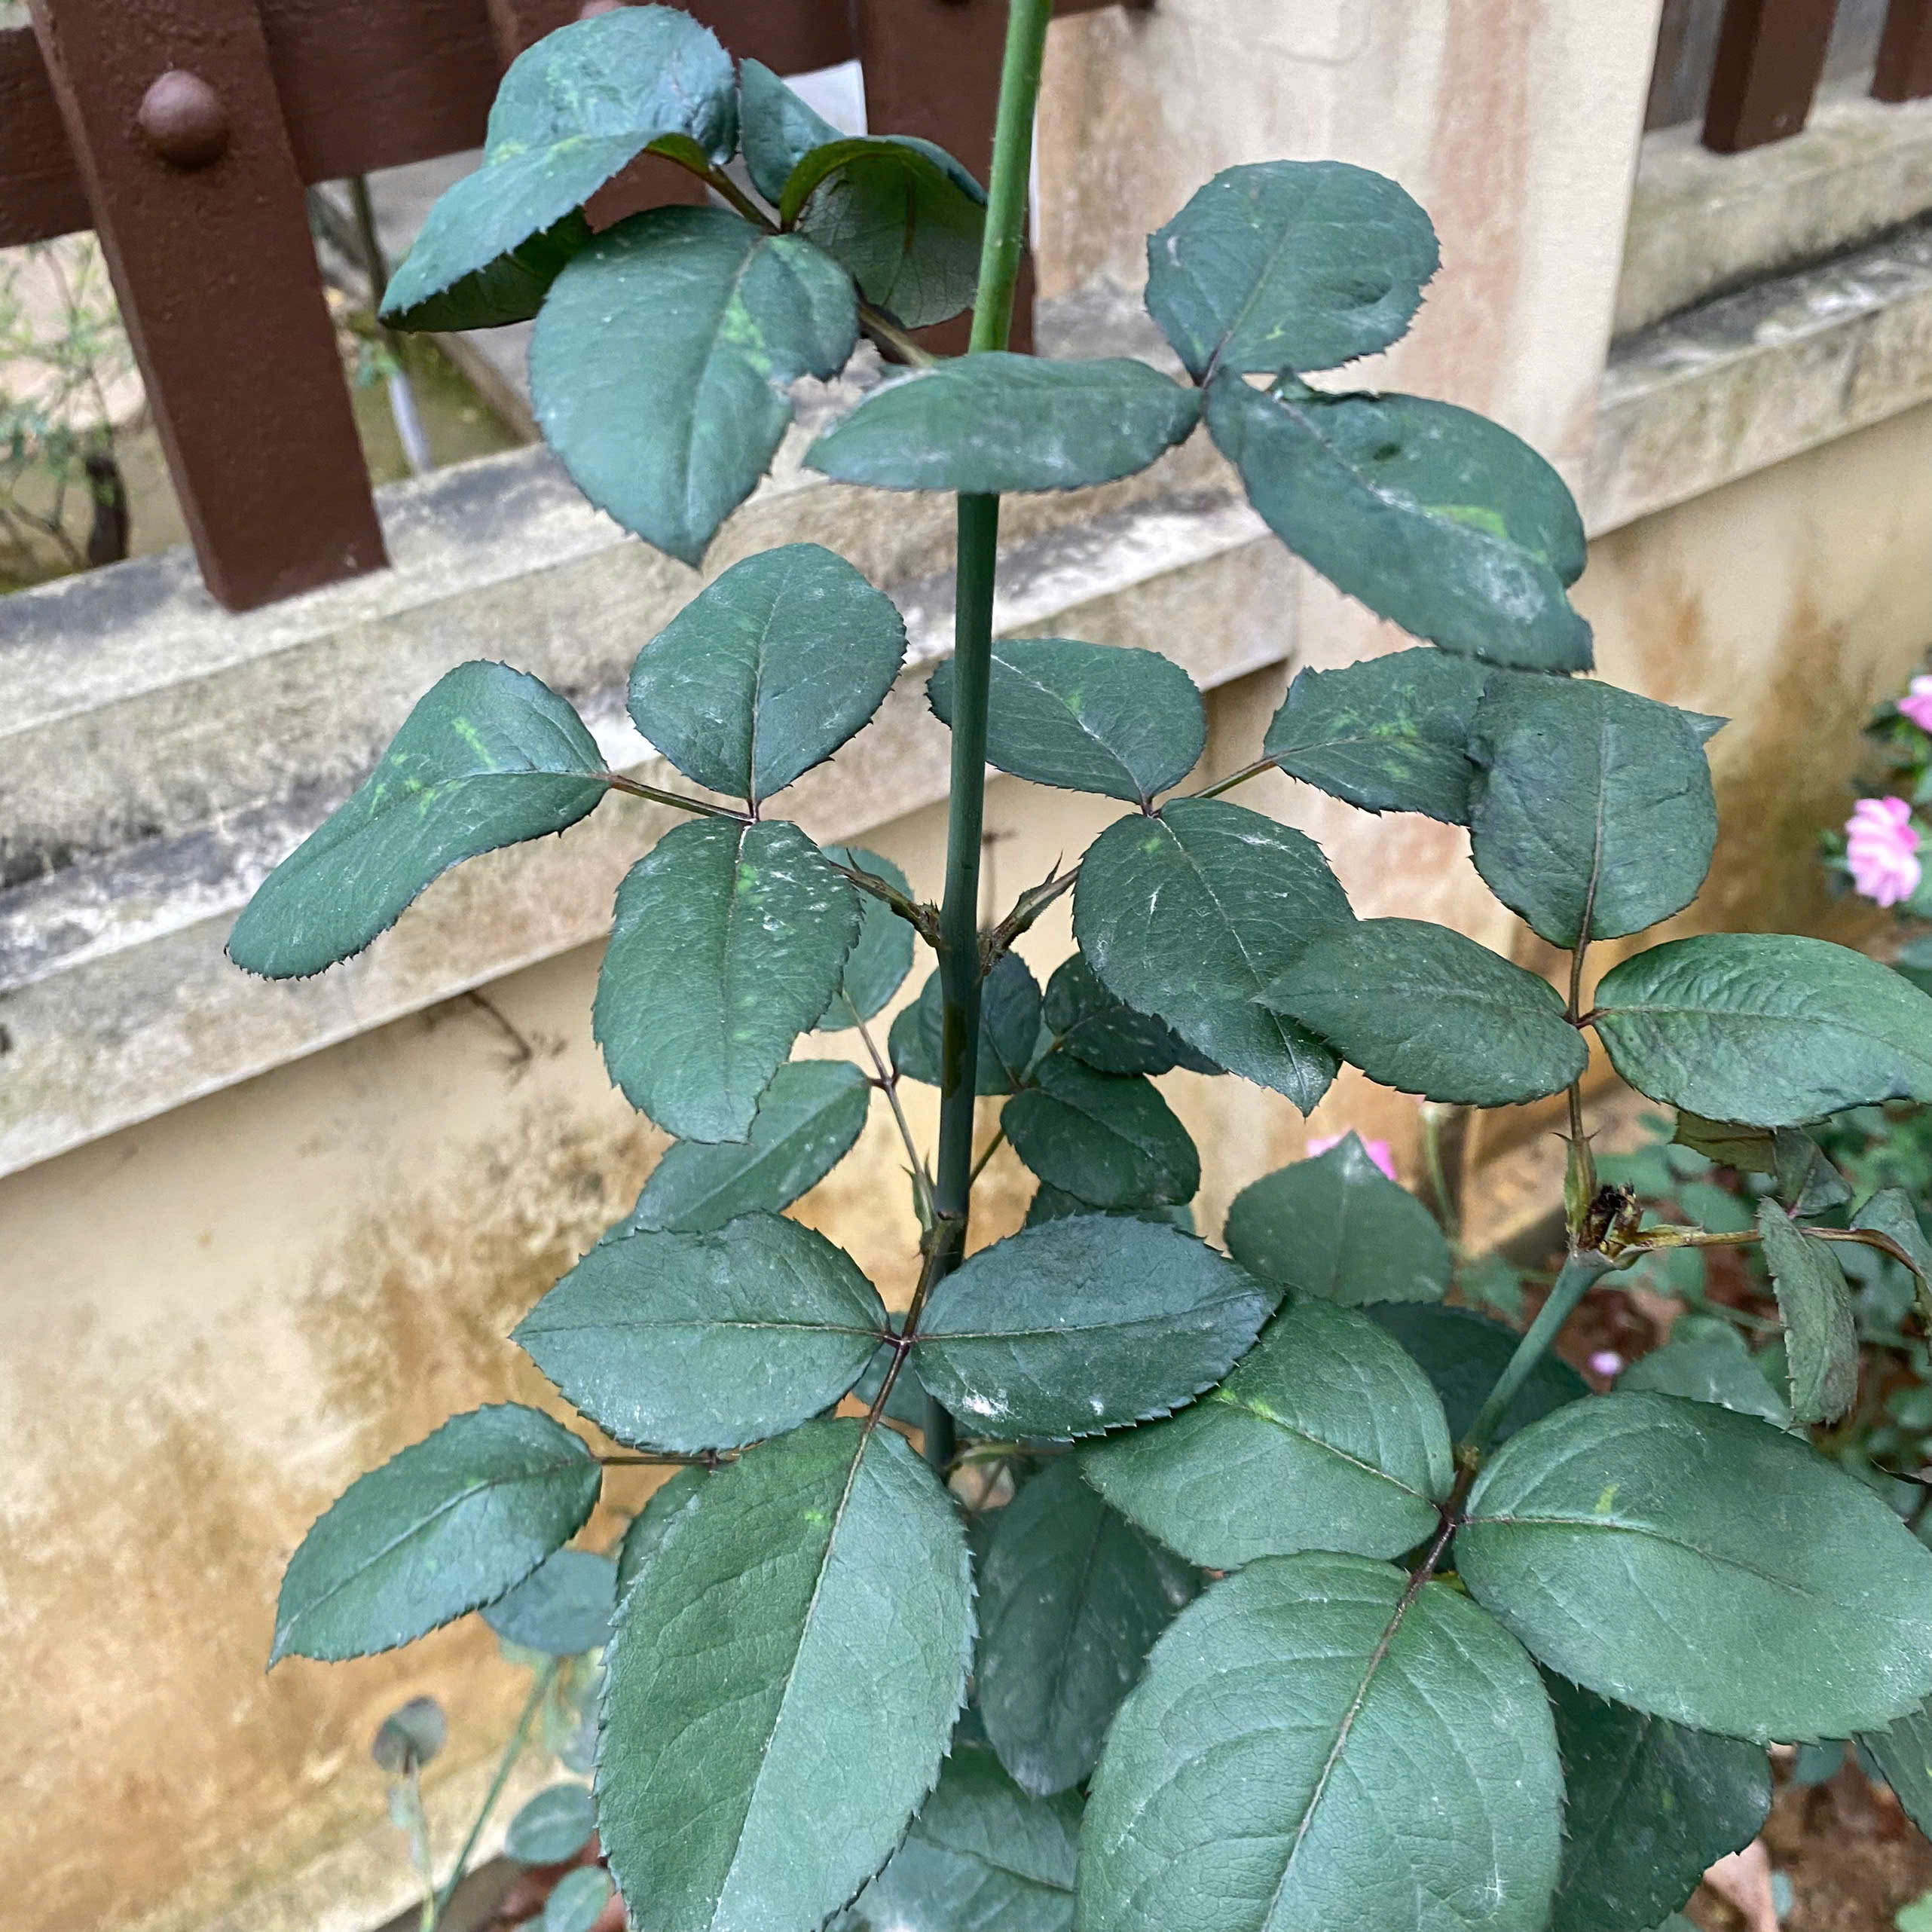hoa_hong_do: (175, 83, 1921, 1918)
